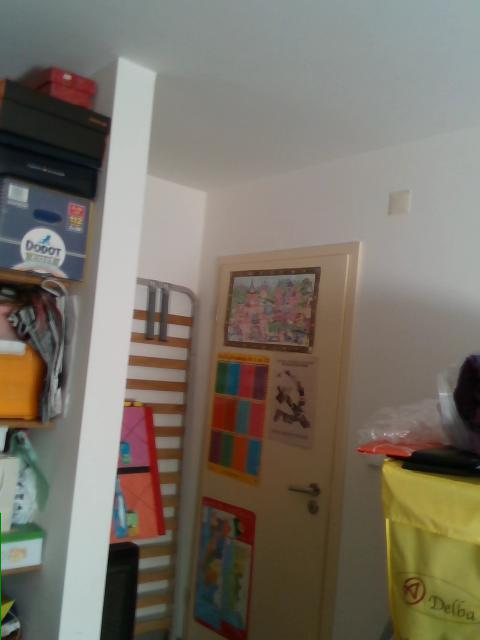door: (184, 240, 362, 637)
